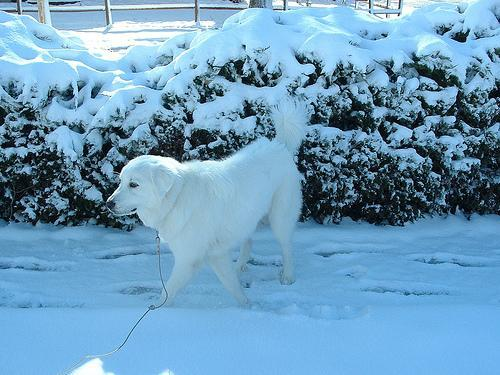Great_Pyrenees: (107, 97, 306, 308)
